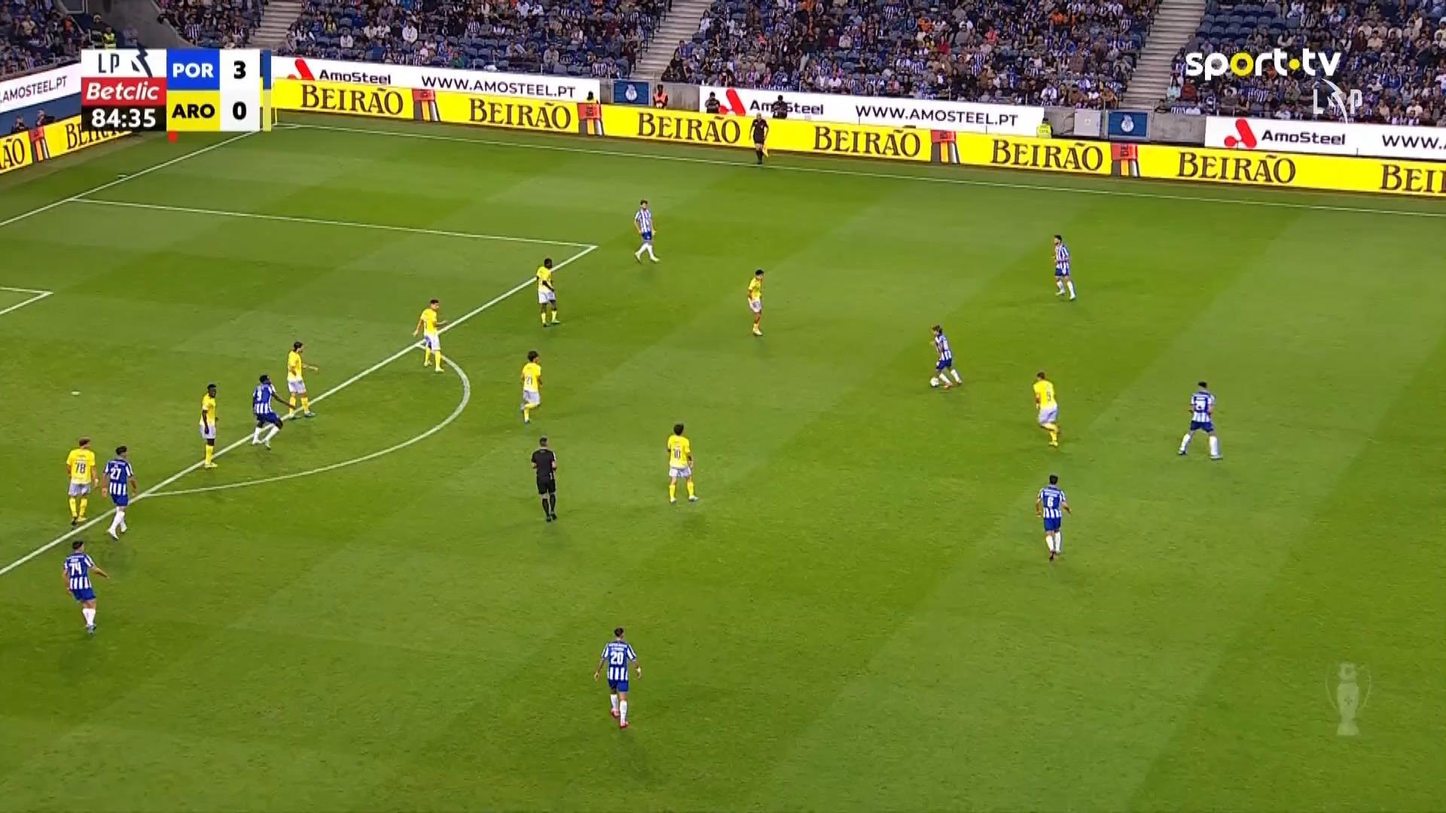player: (593, 626, 642, 729), (61, 539, 108, 635), (1176, 379, 1222, 459), (99, 444, 137, 540), (1034, 473, 1071, 562), (64, 436, 98, 526), (249, 373, 288, 449), (284, 340, 319, 419), (665, 422, 698, 504), (412, 298, 447, 373), (928, 324, 962, 389), (1032, 370, 1060, 446), (198, 382, 219, 468), (519, 349, 543, 424), (632, 199, 660, 263), (535, 257, 560, 327), (1051, 233, 1075, 300), (746, 268, 764, 336)
referee: (530, 436, 558, 522), (749, 111, 769, 165)
